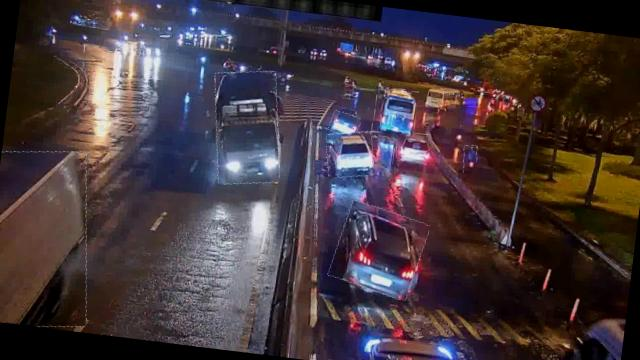Bike: (462, 144, 478, 174)
Bus: (372, 86, 418, 137)
Car: (330, 201, 428, 298), (322, 128, 377, 181), (392, 130, 430, 168), (328, 110, 362, 136)
Truck: (0, 143, 101, 331), (205, 65, 288, 188)
